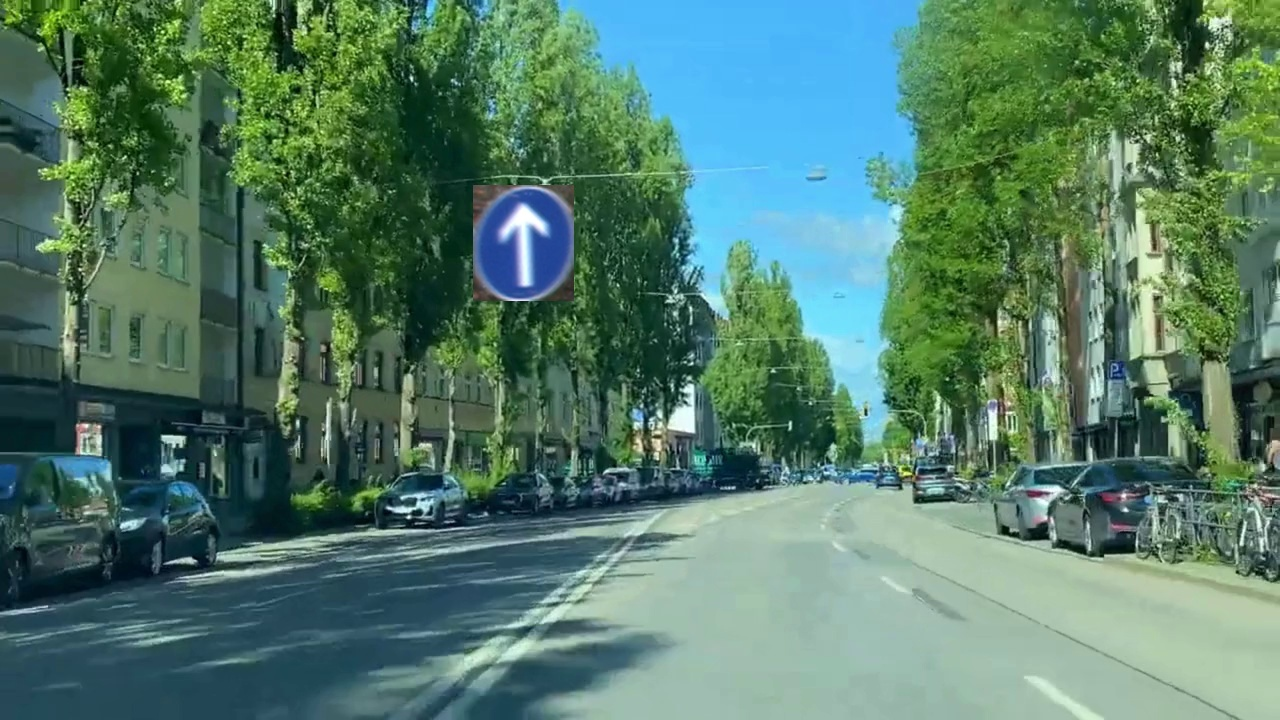Ahead only: (473, 185, 574, 301)
